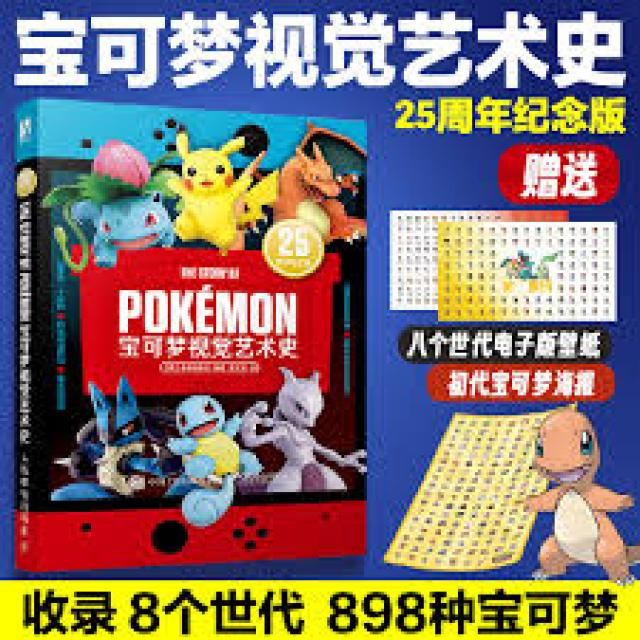Charizard: (255, 130, 366, 239)
Charmander: (532, 402, 609, 572)
Ivysaur: (73, 143, 173, 257)
Mewtwo: (272, 372, 341, 494)
Pikachu: (175, 141, 244, 246)
Squirtle: (173, 393, 248, 492)
